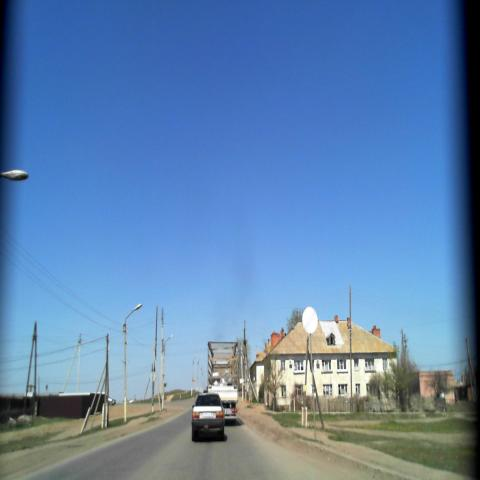3_31: (302, 306, 318, 335)
